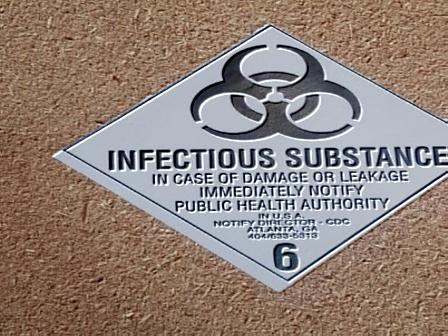infectious-substance: (52, 23, 448, 295)
